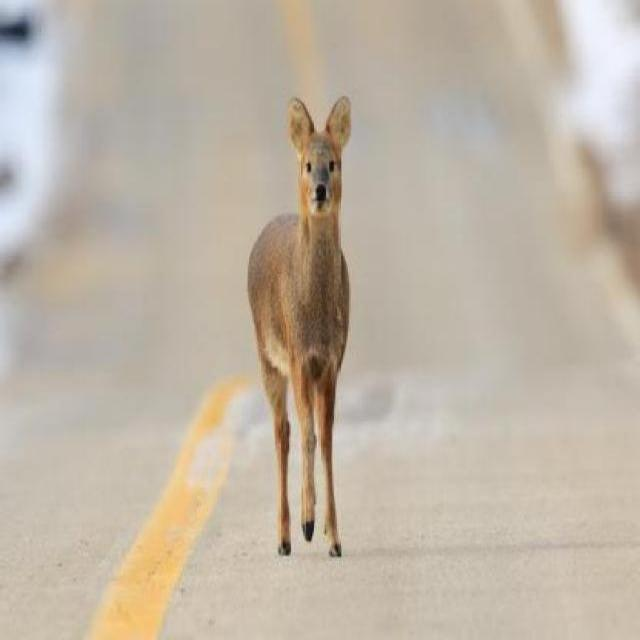deer: (241, 79, 367, 558)
